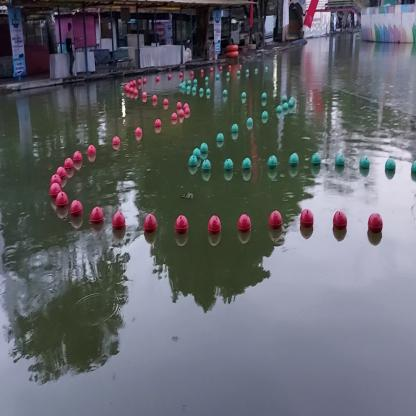green_buoy: (384, 157, 396, 176), (360, 155, 370, 177), (189, 154, 199, 174), (230, 120, 240, 138), (288, 153, 299, 169), (268, 156, 279, 172), (335, 151, 344, 169), (202, 162, 212, 178), (193, 145, 201, 164), (244, 158, 252, 176), (199, 142, 209, 155), (224, 160, 234, 173), (410, 160, 416, 181), (261, 108, 269, 123), (276, 103, 283, 117), (246, 116, 253, 130), (217, 133, 224, 147), (312, 155, 320, 166), (284, 104, 288, 115)
red_buoy: (206, 212, 222, 242), (266, 210, 283, 235), (332, 210, 349, 235), (174, 213, 189, 241), (236, 216, 254, 238), (144, 214, 158, 240), (367, 212, 383, 234), (300, 206, 314, 231), (56, 190, 70, 214), (91, 204, 104, 228), (71, 198, 83, 221), (50, 184, 62, 206), (57, 165, 68, 187), (112, 212, 124, 230), (51, 174, 62, 190), (72, 151, 81, 169), (67, 158, 75, 175), (88, 145, 96, 160), (112, 137, 121, 150), (134, 129, 142, 141), (154, 120, 161, 133)
